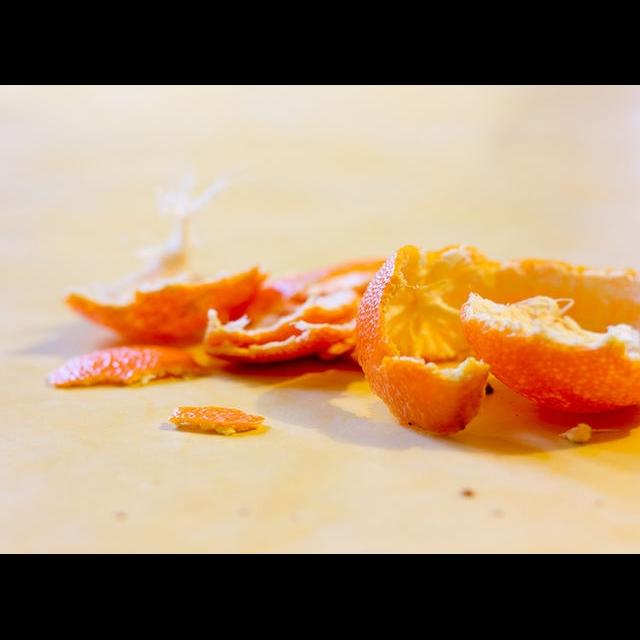food_waste: (454, 259, 640, 461), (346, 240, 492, 456), (52, 258, 293, 346), (44, 336, 239, 398), (195, 304, 360, 370), (163, 394, 264, 446)
